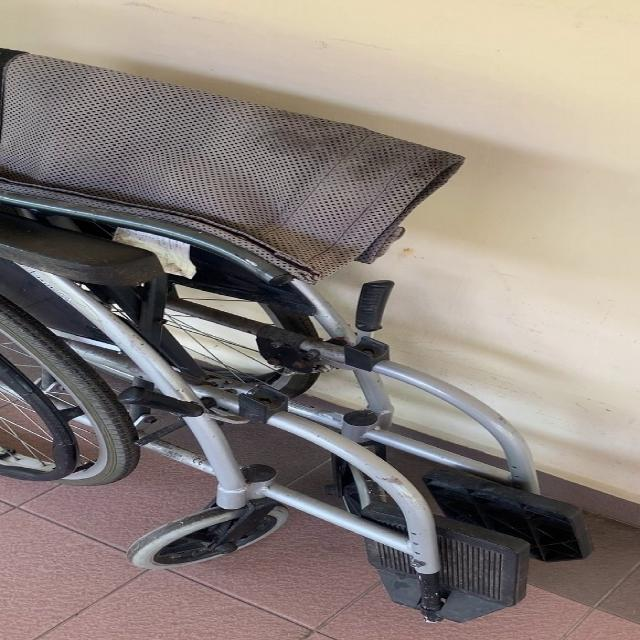wheelchair: (1, 24, 618, 640)
